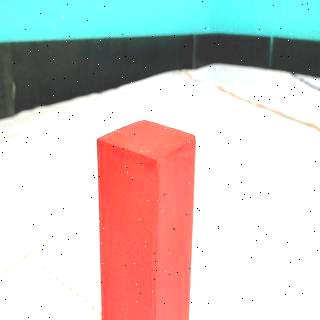redbox: (98, 119, 196, 320)
